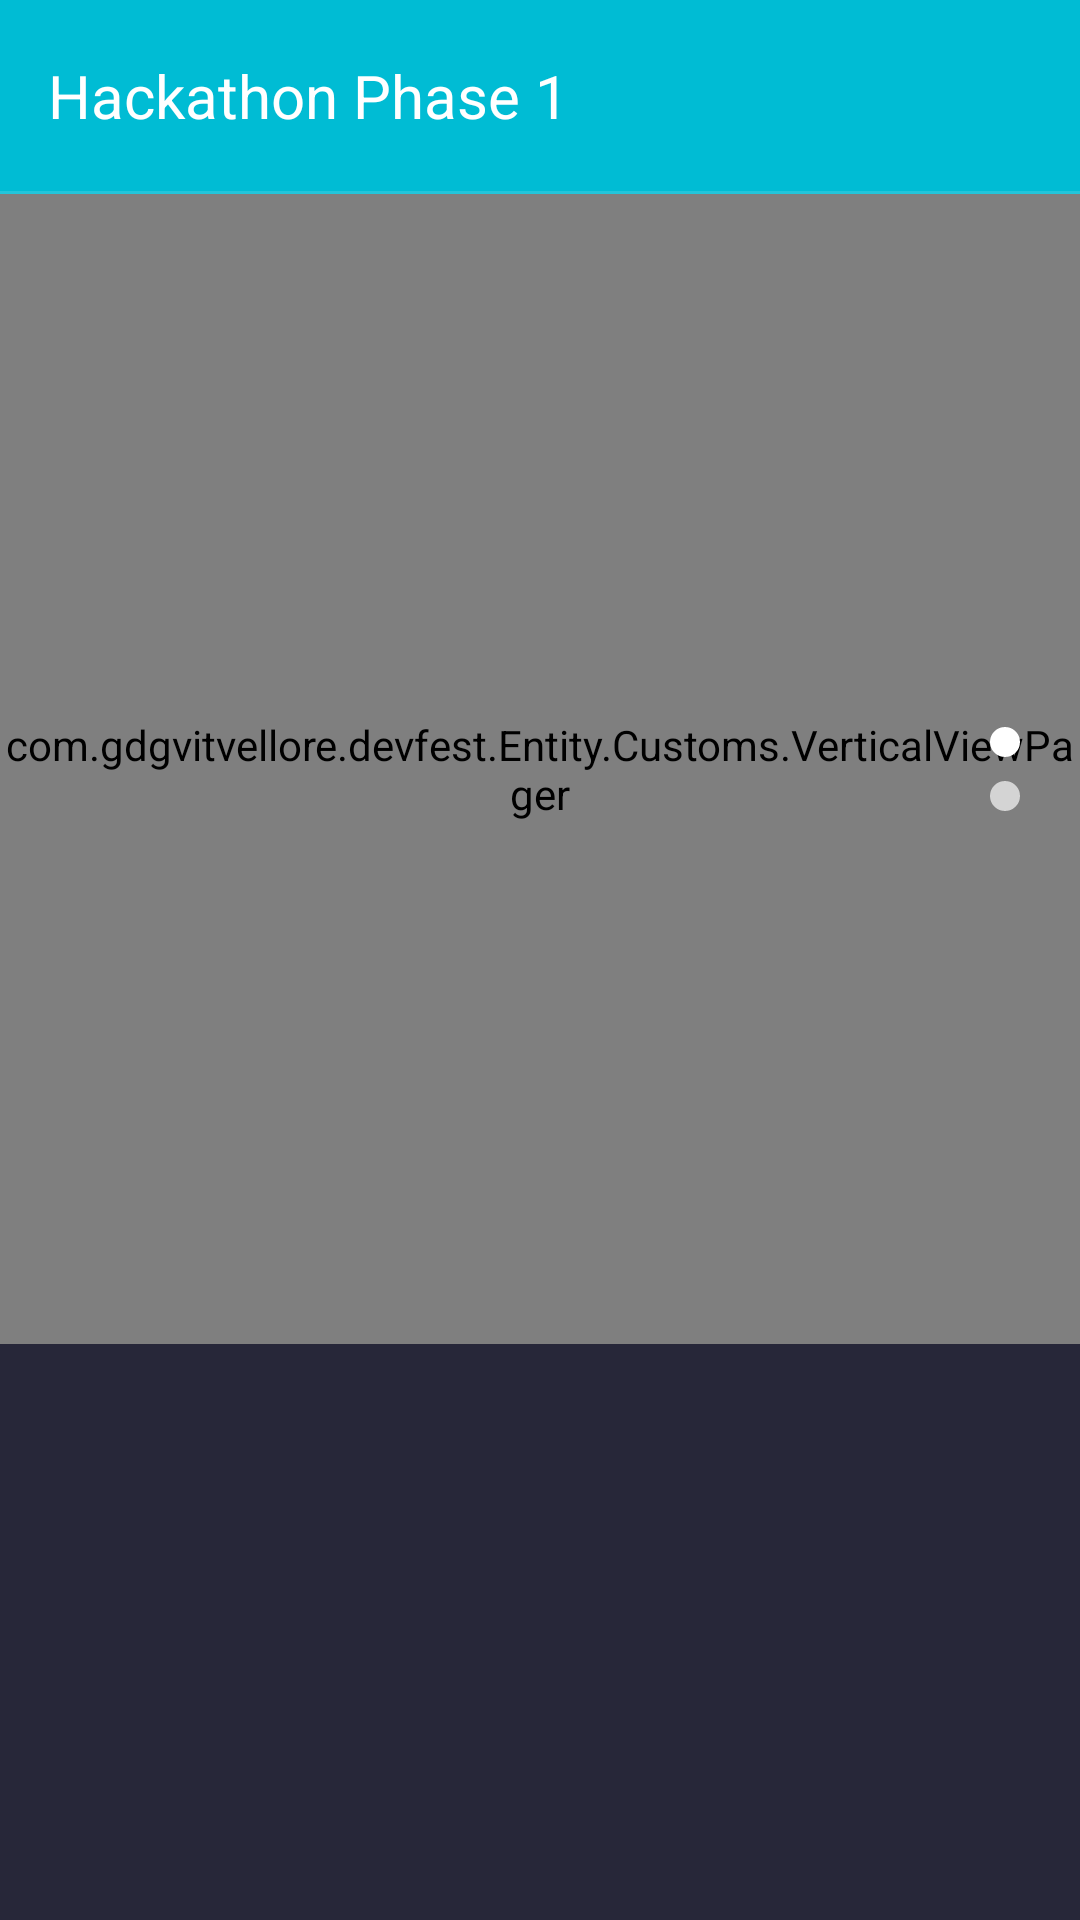

Where to tap for icons on this 1080w x 1920h app screen, as (x=x, y=y):
indicator circle: (x=1005, y=742), (x=1005, y=796)
